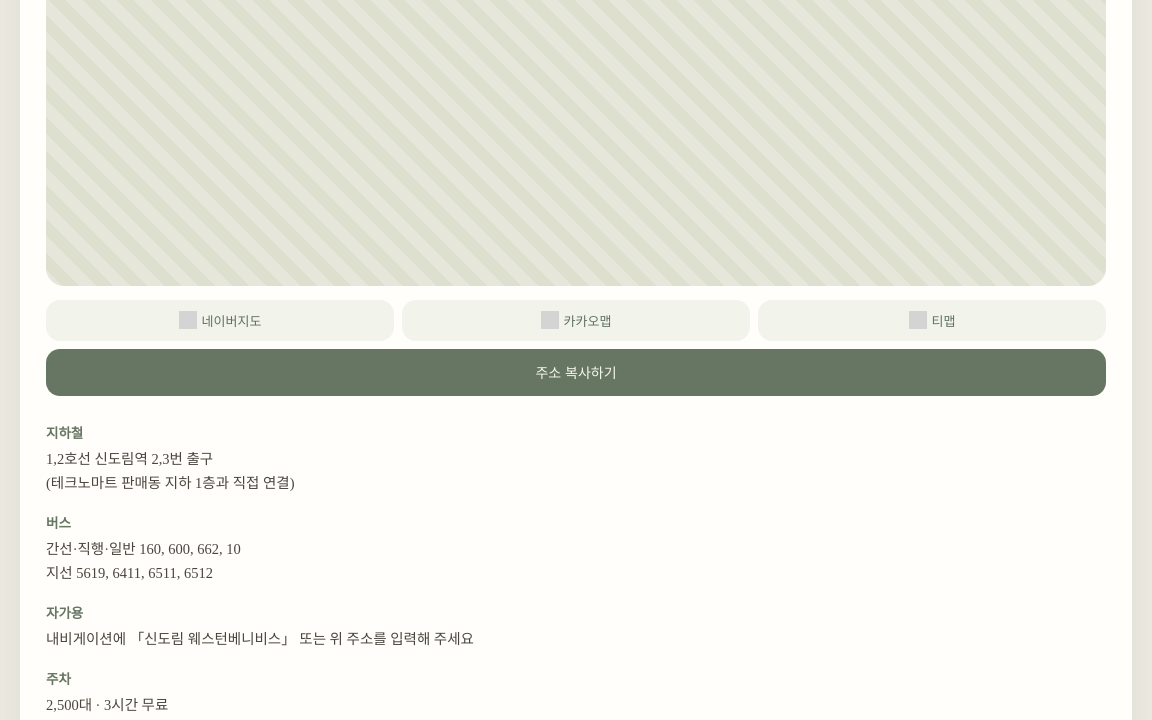
Test: Location › SIS-42 PC 에서 티맵은 스토어로 보내지 않고 다른 앱을 안내한다
(page scrolled)
Click the button "티맵" at (932, 320), box left=758, top=300, right=1106, bottom=340
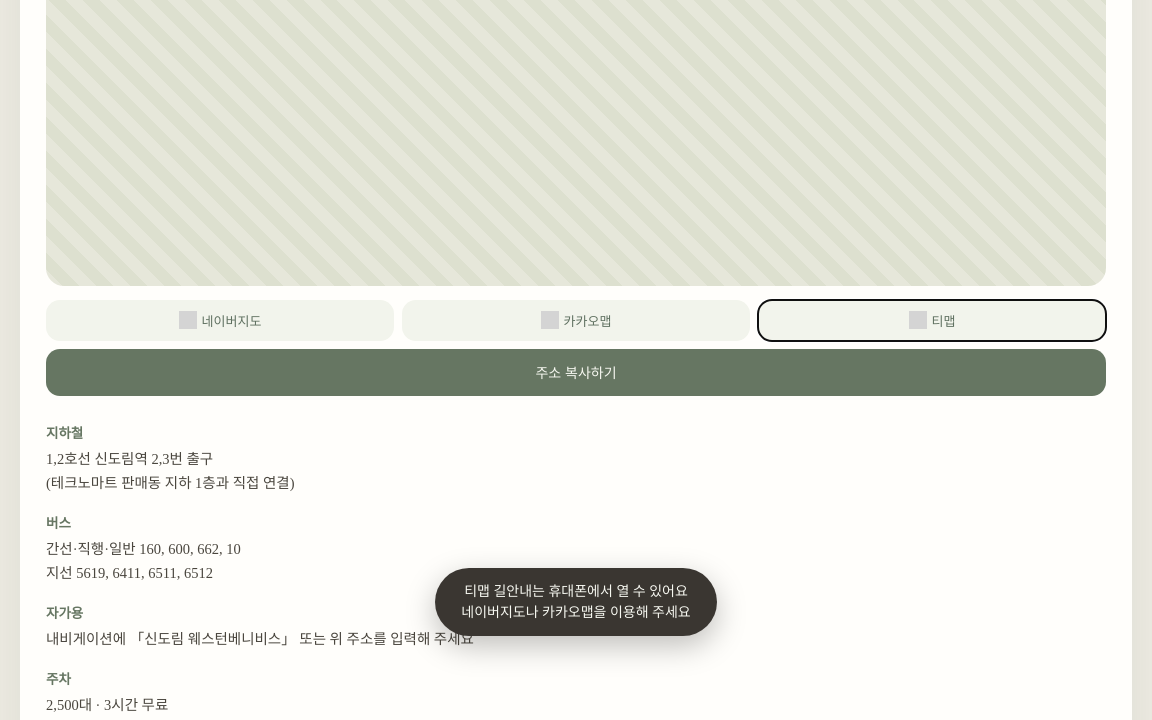
expect the message shows "네이버지도나 카카오맵": met, box left=461, top=584, right=691, bottom=620
